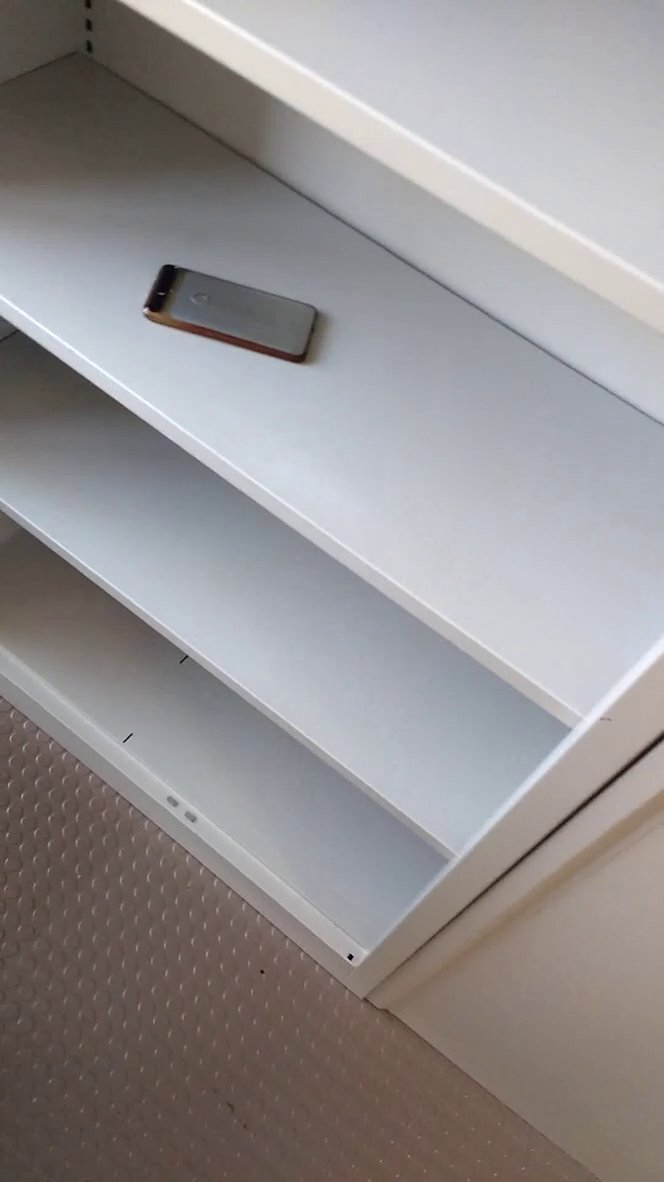phone: (130, 255, 332, 379)
